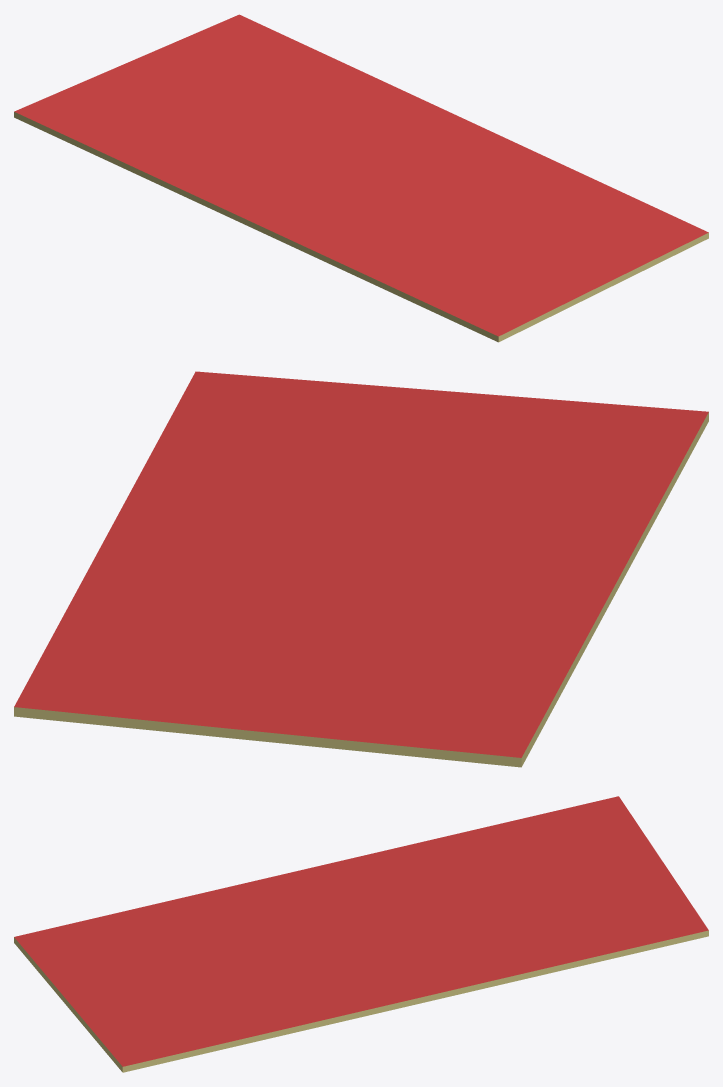
3 views of the same model, one above another, from view 1: azimuth 30°, elevation 25°; view 2: azimuth 150°, elevation 25°; view 3: azimuth 270°, elevation 25° (orthographic). The views are drawn at different scales.
Size of the model in its own units: 7.95 by 10.6 by 0.947.
